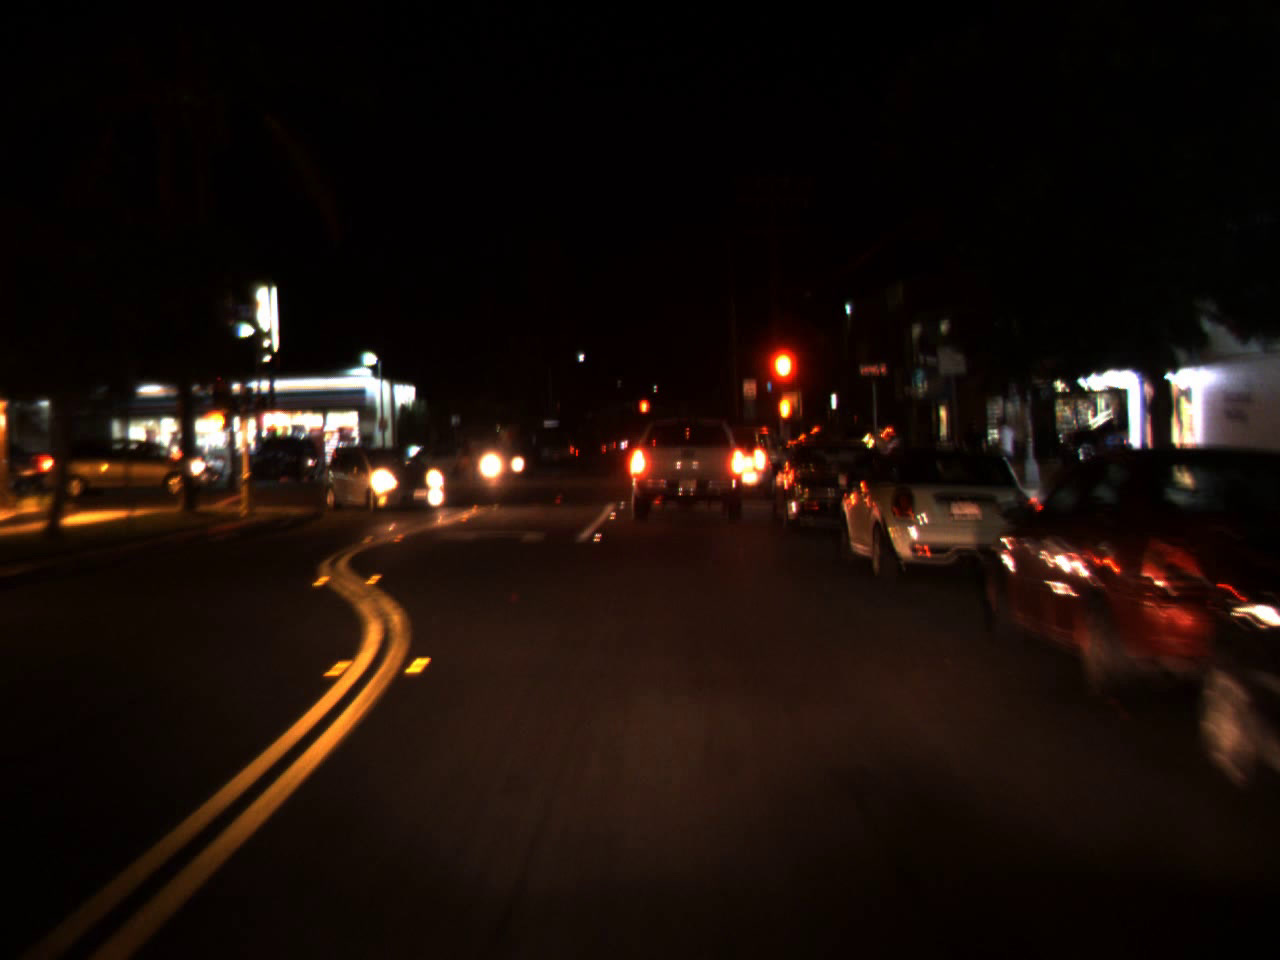stop: (768, 346, 796, 408), (637, 397, 650, 429)
